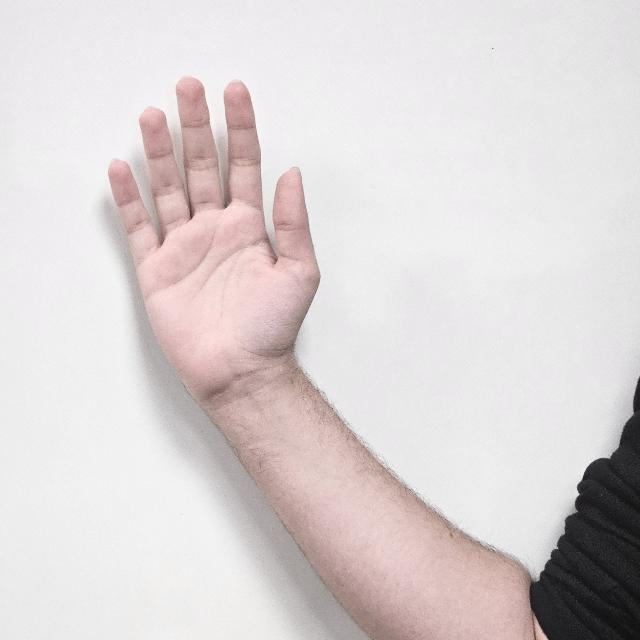X: (97, 74, 320, 414)
